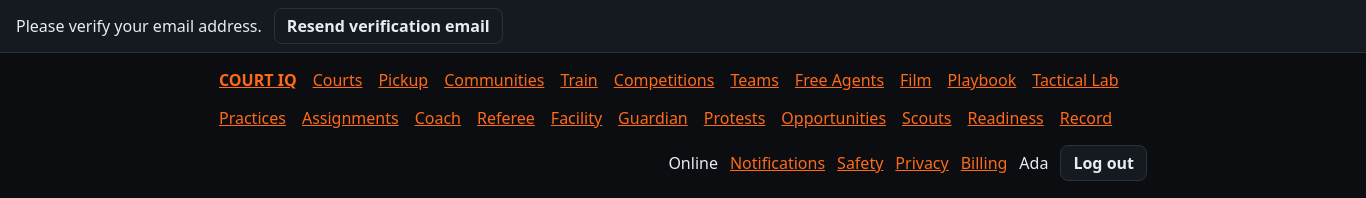
Scenario: verification banner in SiteNav › shows a friendly message on 429
Click the button "Resend verification email" at (388, 26), box left=274, top=8, right=503, bottom=44
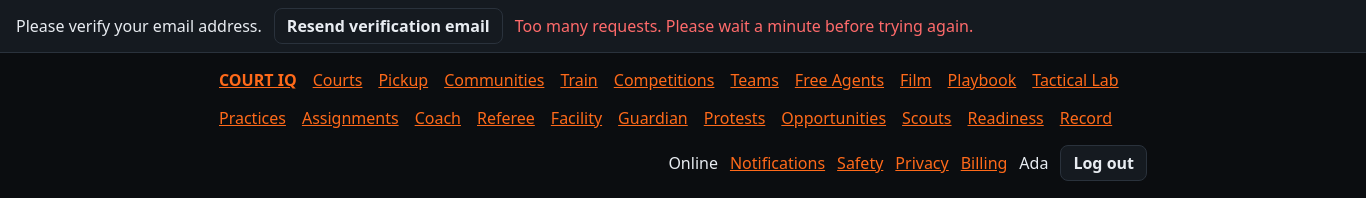
Expected: the message "Too many requests. Please wait a minute before trying again." is shown, left=515, top=15, right=973, bottom=37
